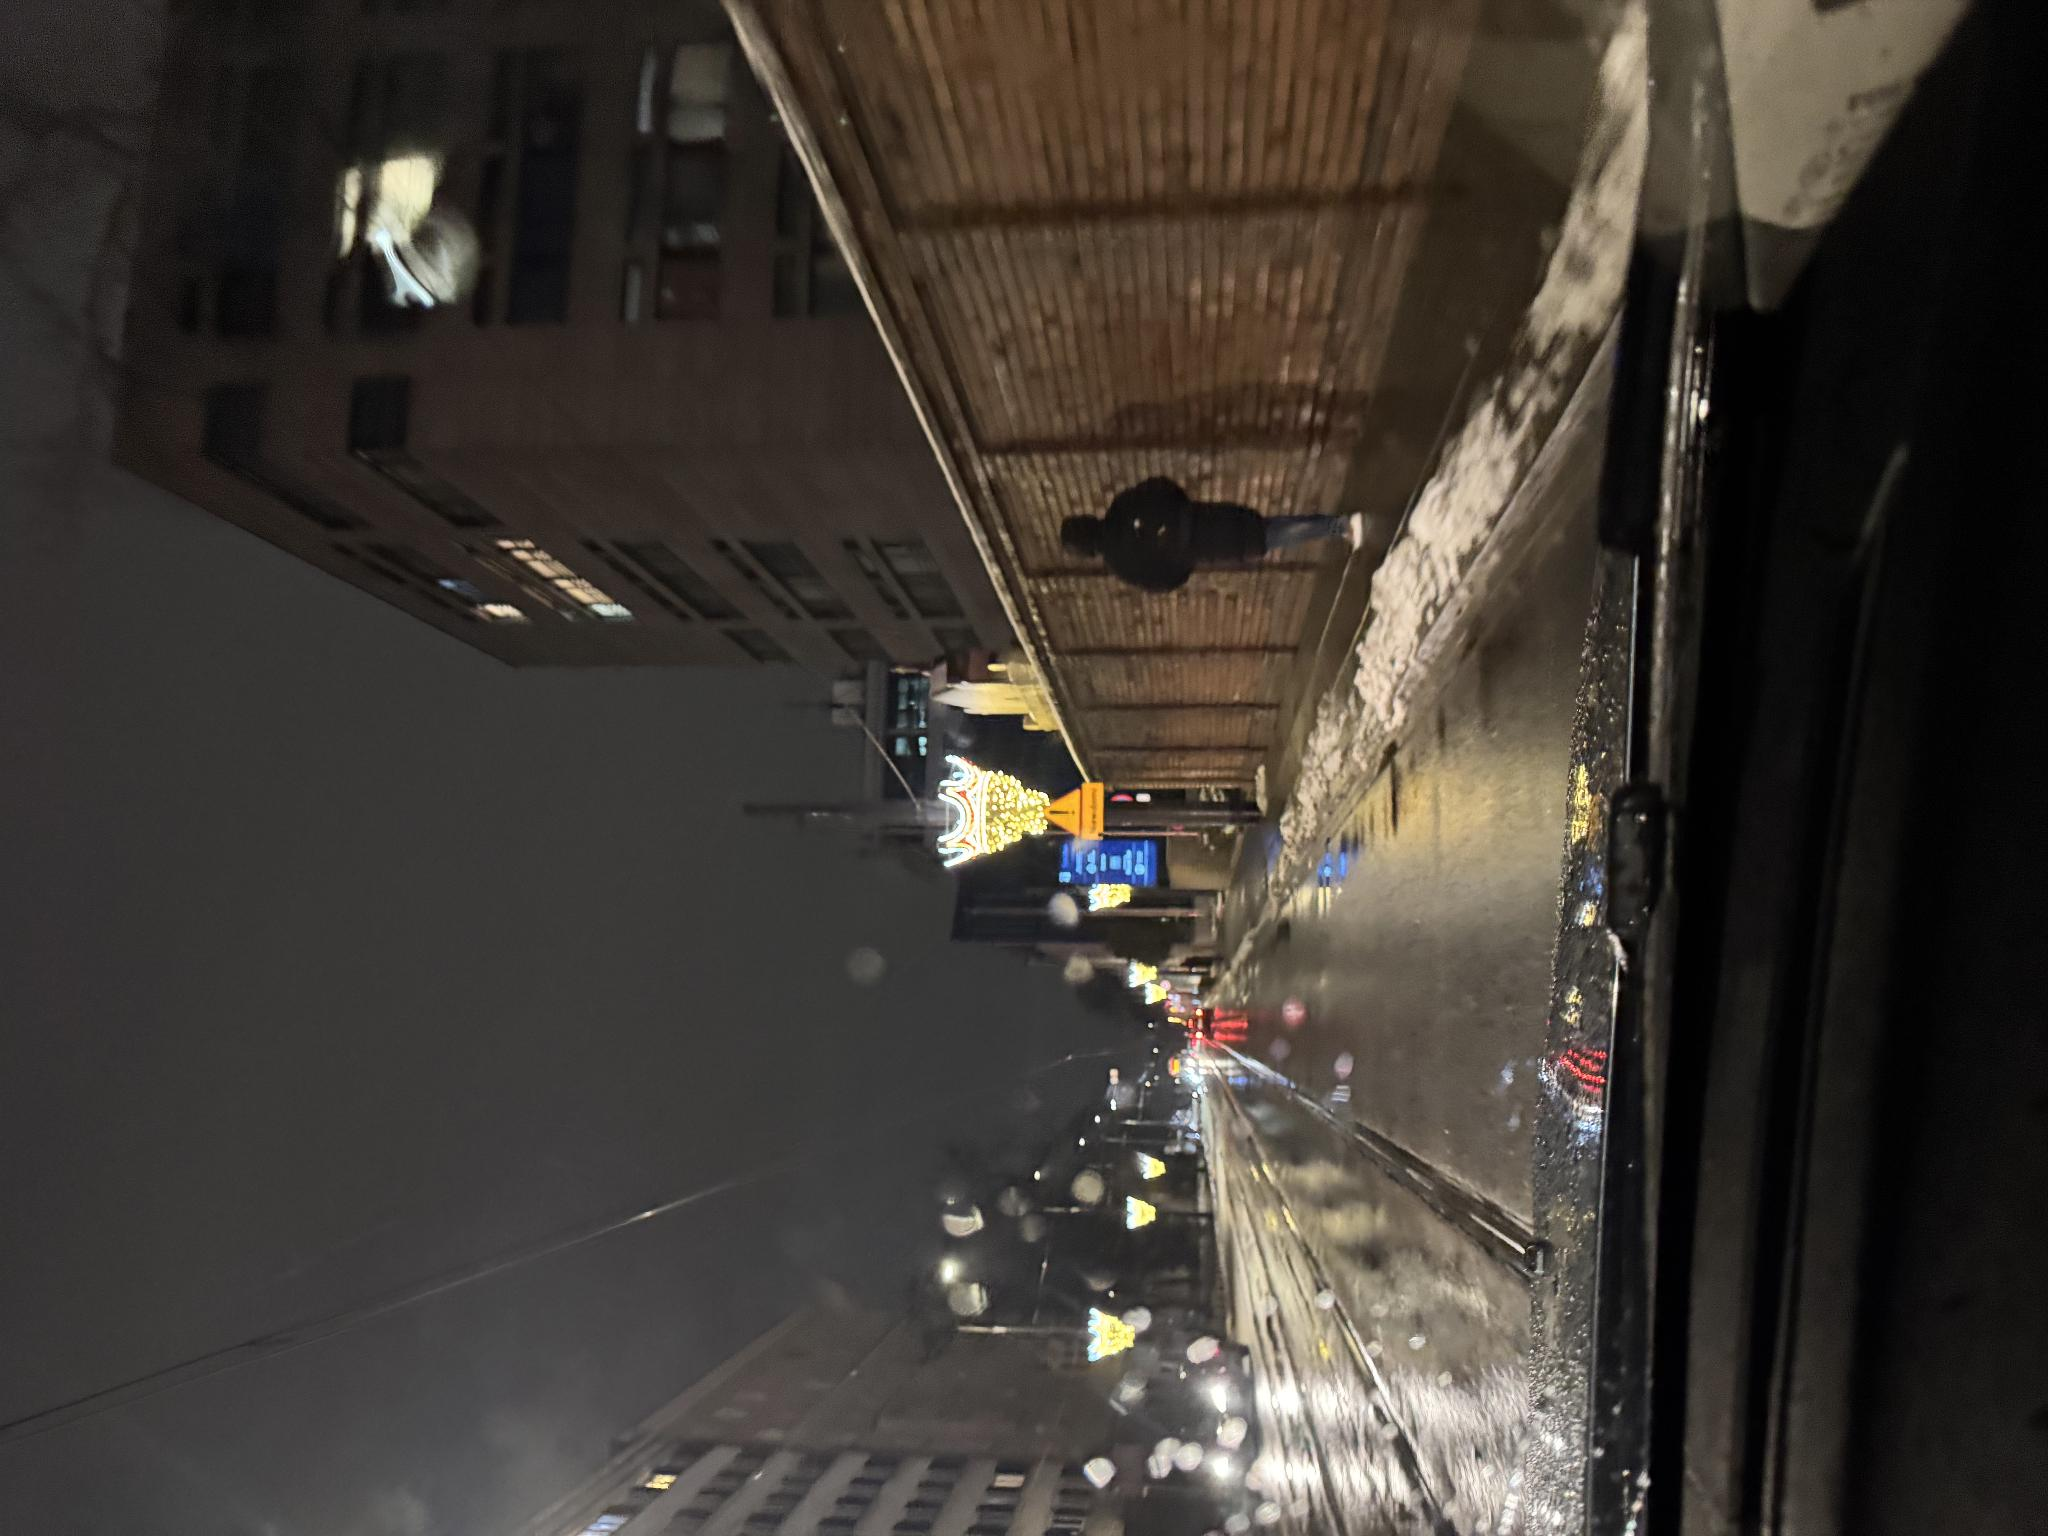other: (697, 1083, 755, 1104)
warning: (700, 1042, 748, 1081)
